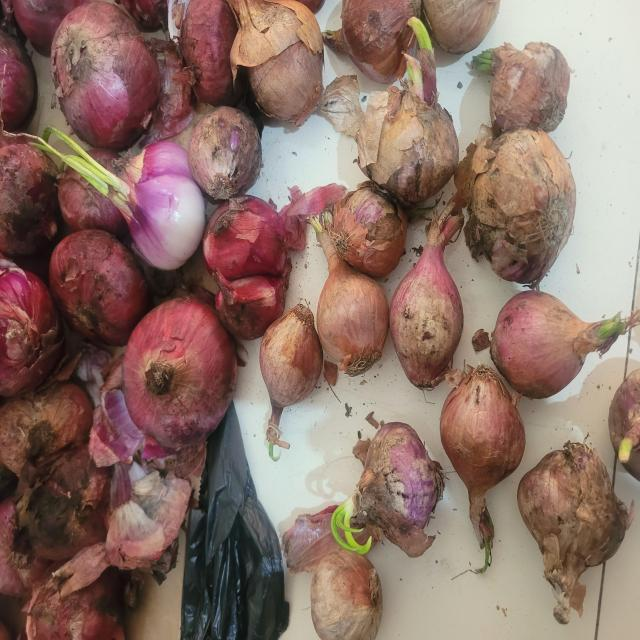rotten: (390, 203, 463, 389), (203, 196, 291, 340), (49, 229, 150, 346), (367, 82, 456, 206), (57, 41, 157, 148), (440, 370, 524, 492), (476, 126, 567, 228), (473, 42, 570, 134), (0, 382, 93, 476), (323, 0, 420, 83), (330, 181, 407, 277), (188, 107, 261, 200), (249, 34, 321, 126), (375, 425, 438, 527), (518, 456, 581, 552), (539, 472, 605, 557), (486, 236, 530, 282), (142, 361, 182, 397)
sprouting: (27, 126, 206, 270), (490, 291, 640, 399), (311, 211, 389, 376), (260, 304, 323, 461)
